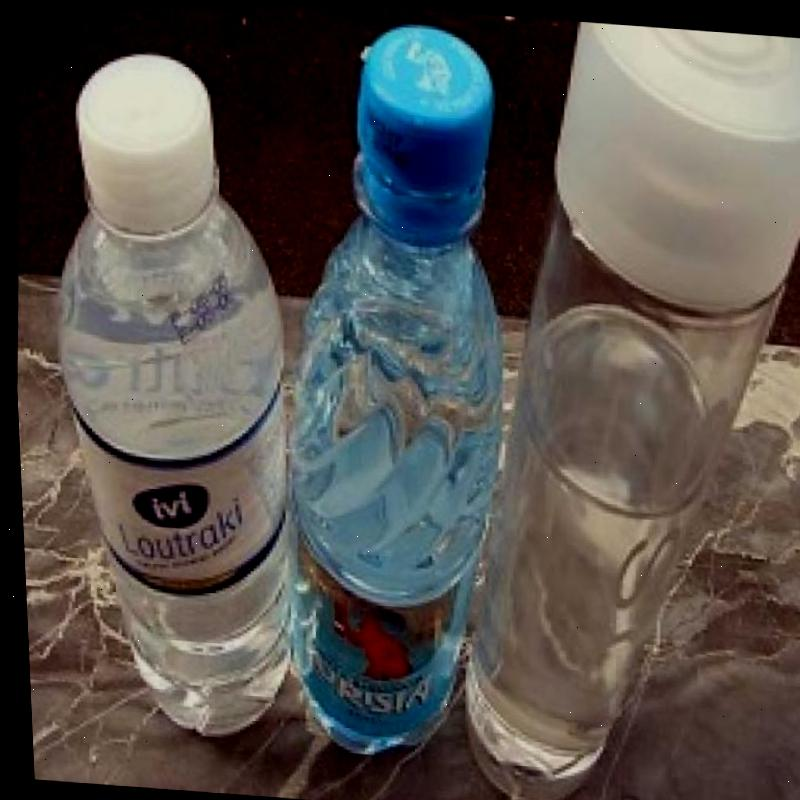botella: (18, 44, 319, 746), (258, 19, 531, 764)
